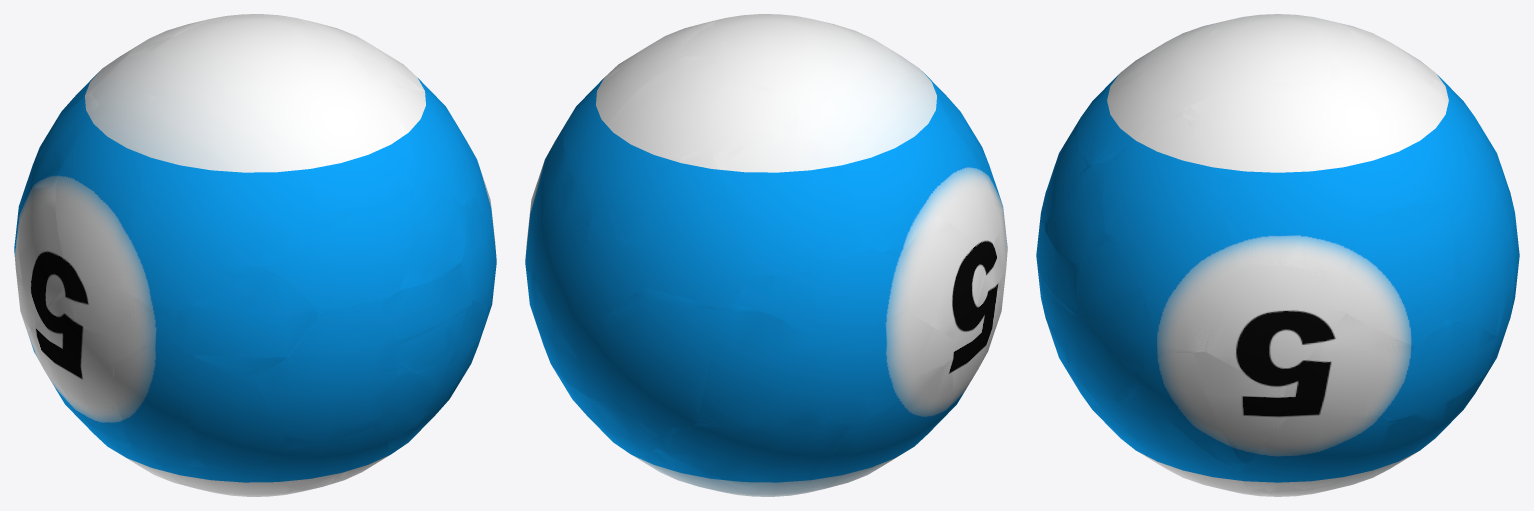
The model's file is top5kırılan.fbx.
The picture shows the model from 3 angles, left to right: view 1: azimuth 30°, elevation 25°; view 2: azimuth 150°, elevation 25°; view 3: azimuth 270°, elevation 25°; orthographic projection.
Visible parts, largest first — view 1: Sphere, Sphere_cell.082, Sphere_cell.041, Sphere_cell.049, Sphere_cell.045, Sphere_cell.065, Sphere_cell.001, Sphere_cell.006, Sphere_cell.022, Sphere_cell.089, Sphere_cell.046, Sphere_cell.058 (+14 smaller); view 2: Sphere, Sphere_cell.093, Sphere_cell.059, Sphere_cell.015, Sphere_cell.028, Sphere_cell.064, Sphere_cell.022, Sphere_cell.033, Sphere_cell.054, Sphere_cell.036, Sphere_cell.012, Sphere_cell.056 (+12 smaller); view 3: Sphere, Sphere_cell.061, Sphere_cell.059, Sphere_cell.091, Sphere_cell.077, Sphere_cell.088, Sphere_cell.046, Sphere_cell.063, Sphere_cell.026, Sphere_cell.006, Sphere_cell.065, Sphere_cell.050 (+13 smaller).
Part boxes in pixels (<box>): Sphere: <box>15,16,495,496</box>; Sphere_cell.082: <box>119,148,292,317</box>; Sphere_cell.041: <box>255,302,398,449</box>; Sphere_cell.049: <box>172,269,318,379</box>; Sphere_cell.045: <box>206,88,314,243</box>; Sphere_cell.065: <box>310,89,416,240</box>; Sphere_cell.001: <box>35,295,130,449</box>; Sphere_cell.006: <box>400,173,467,289</box>; Sphere_cell.022: <box>18,187,70,318</box>; Sphere_cell.089: <box>66,286,161,363</box>; Sphere_cell.046: <box>460,196,496,306</box>; Sphere_cell.058: <box>120,329,200,467</box>; Sphere: <box>525,14,1007,496</box>; Sphere_cell.093: <box>713,134,845,270</box>; Sphere_cell.059: <box>576,56,729,198</box>; Sphere_cell.015: <box>652,410,849,489</box>; Sphere_cell.028: <box>698,304,818,426</box>; Sphere_cell.064: <box>600,287,720,423</box>; Sphere_cell.022: <box>899,213,988,340</box>; Sphere_cell.033: <box>811,310,952,423</box>; Sphere_cell.054: <box>837,143,930,255</box>; Sphere_cell.036: <box>597,150,747,306</box>; Sphere_cell.012: <box>703,82,800,152</box>; Sphere_cell.056: <box>812,358,952,486</box>; Sphere: <box>1036,14,1519,496</box>; Sphere_cell.061: <box>1284,313,1414,416</box>; Sphere_cell.059: <box>1330,48,1467,199</box>; Sphere_cell.091: <box>1183,81,1318,182</box>; Sphere_cell.077: <box>1221,179,1364,277</box>; Sphere_cell.088: <box>1206,262,1345,380</box>; Sphere_cell.046: <box>1073,244,1163,372</box>; Sphere_cell.063: <box>1194,351,1286,465</box>; Sphere_cell.026: <box>1343,200,1454,344</box>; Sphere_cell.006: <box>1045,163,1106,268</box>; Sphere_cell.065: <box>1072,65,1184,164</box>; Sphere_cell.050: <box>1446,196,1509,334</box>.
Size of the model in its own units: 40 by 40 by 40.
